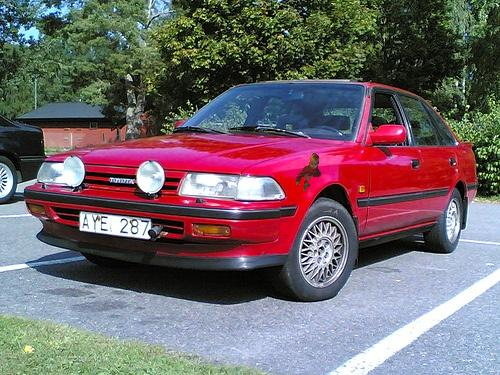tampered: (297, 154, 321, 192)
